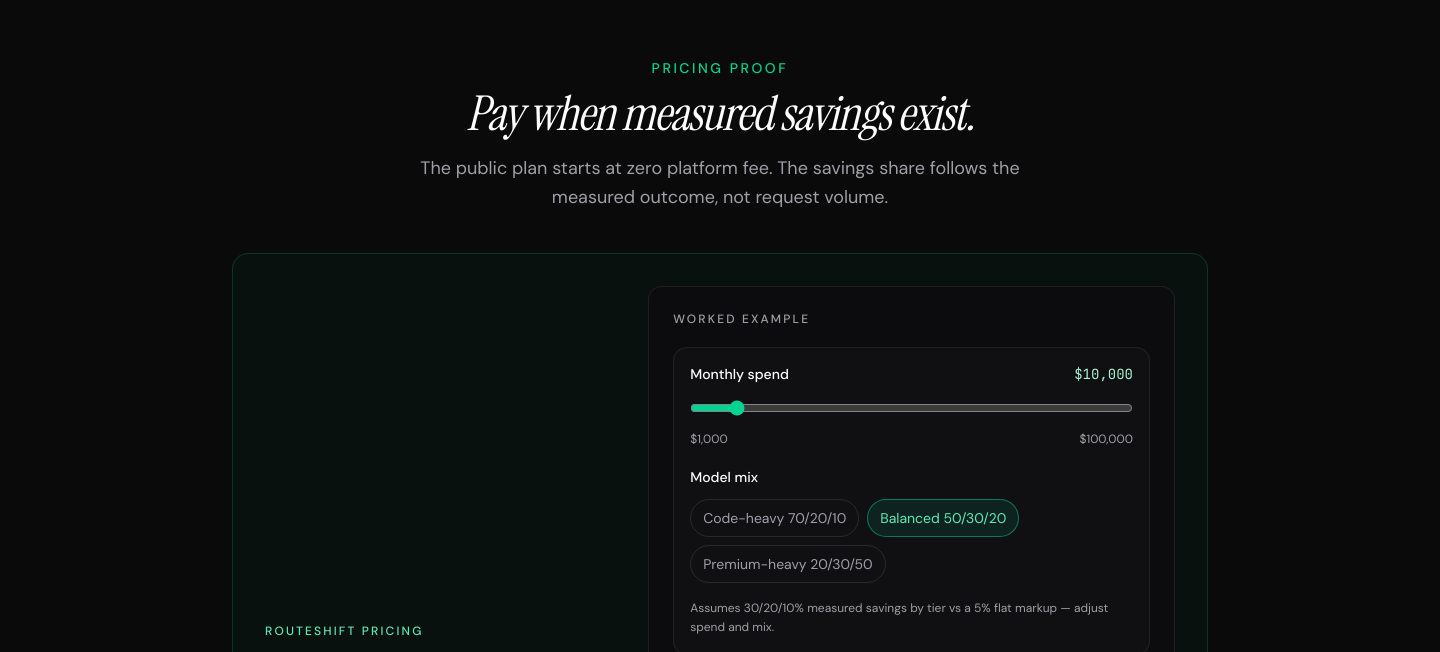
Test: interactive landing proof › recomputes pricing output when spend and model mix change
Set the slider labelled "Monthly spend" to "20000": (780, 408) [690,400,1133,416]
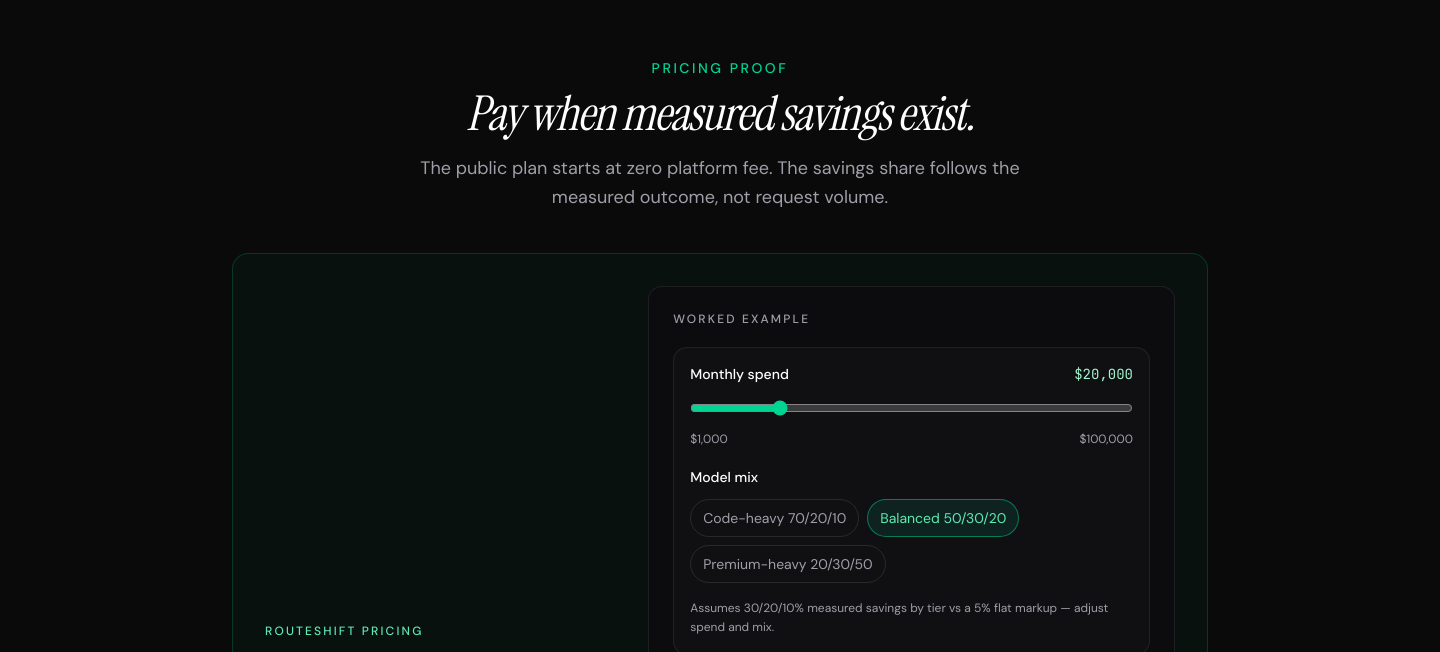
Click the button "Premium-heavy 20/30/50": (788, 564) [690,544,886,582]
(page scrolled)
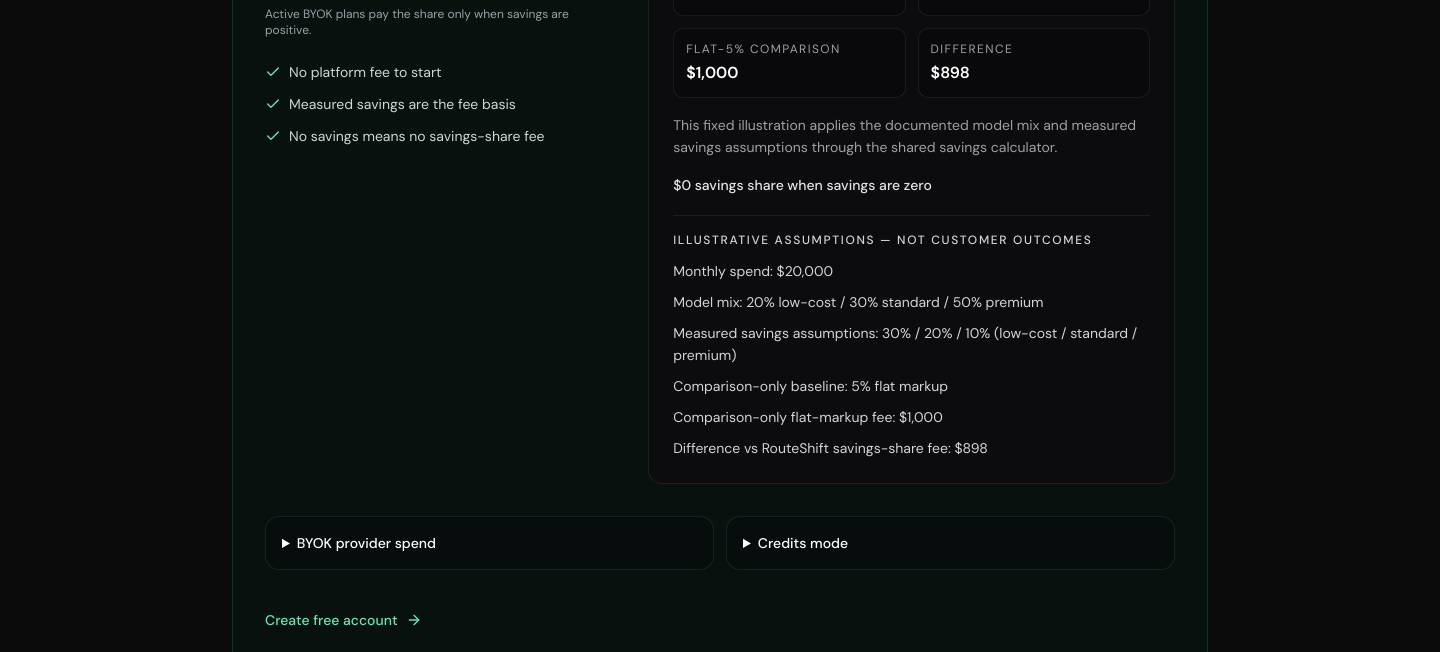
Check: the text "Model mix: 20% low-cost / 30% standard / 50% premium" is shown, box [673,293,1044,311]
Check: the text "Difference vs RouteShift savings-share fee: $898" is shown, box [673,438,988,456]
